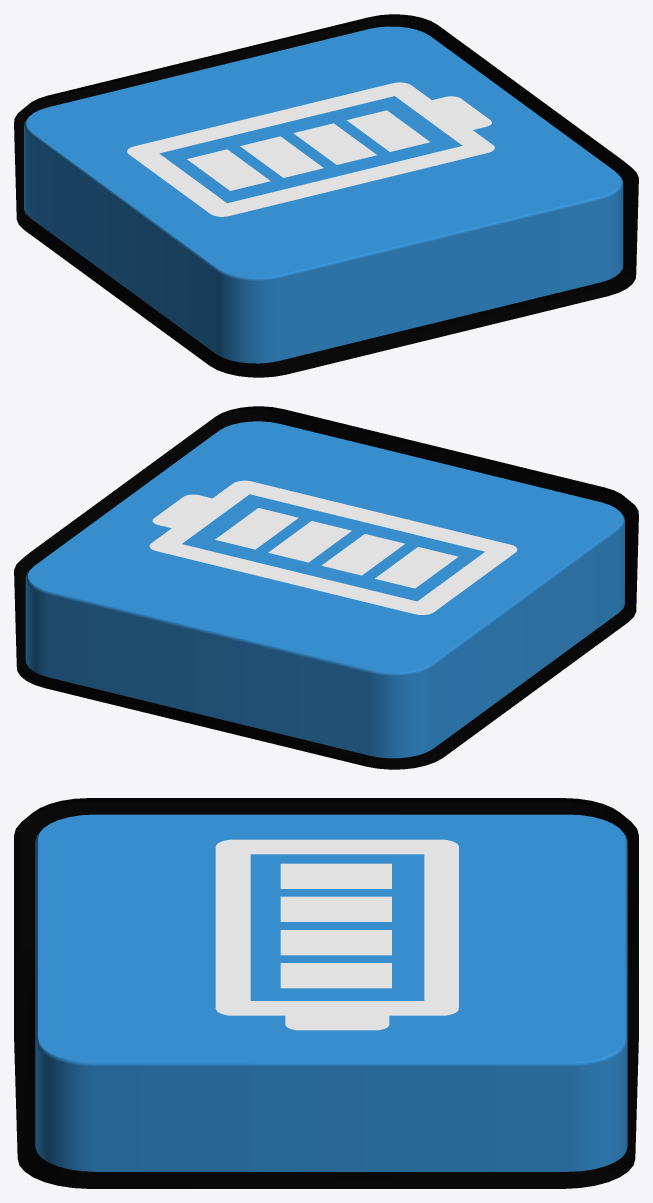
The model's file is Battery.obj.
3 views of the same model, one above another, from view 1: azimuth 30°, elevation 25°; view 2: azimuth 150°, elevation 25°; view 3: azimuth 270°, elevation 25° (orthographic). The views are drawn at different scales.
Parts seen in each view (by area): view 1: Battery; view 2: Battery; view 3: Battery.
Part boxes in pixels (<box>): Battery: <box>14,14,638,377</box>; Battery: <box>14,406,638,769</box>; Battery: <box>14,798,638,1188</box>.
Size of the model in its own units: 1.06 by 0.2484 by 1.06.
